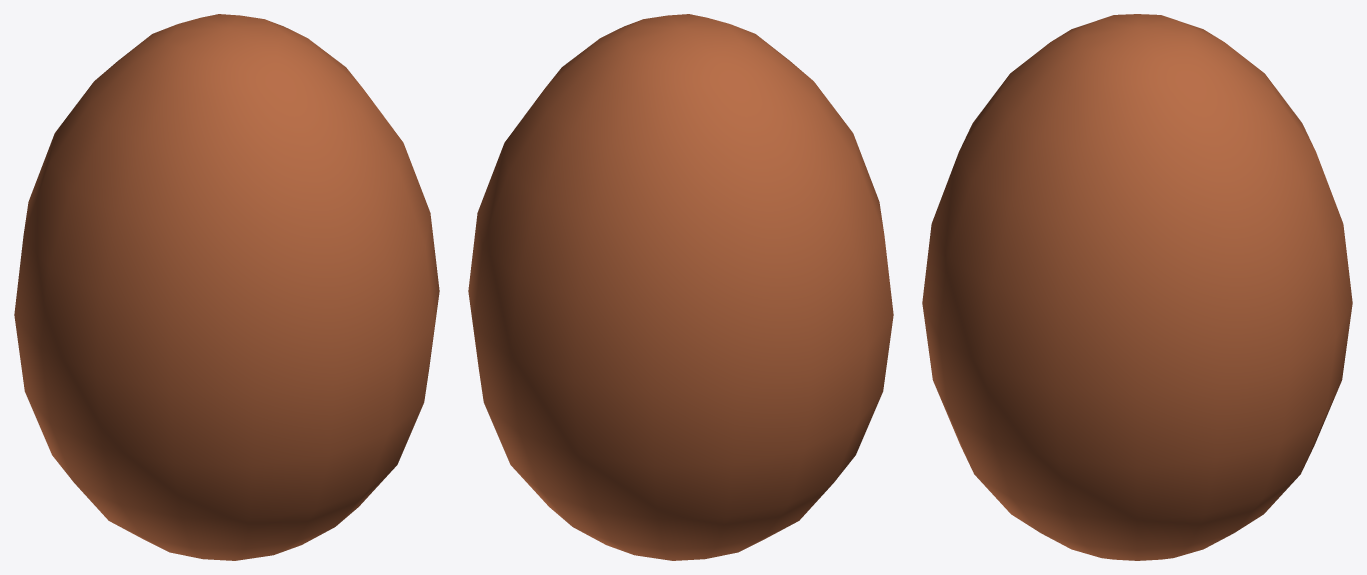
The model's file is Egg.fbx.
The picture shows the model from 3 angles, left to right: view 1: azimuth 30°, elevation 25°; view 2: azimuth 150°, elevation 25°; view 3: azimuth 270°, elevation 25°; orthographic projection.
Visible parts, largest first — view 1: Egg; view 2: Egg; view 3: Egg.
Boxes of the visible parts, box(x1,y1,x2,y2) form: Egg: box(14, 14, 439, 560); Egg: box(468, 14, 893, 560); Egg: box(922, 14, 1352, 560).
Bounding box in the file's own units: 9.81 × 13.01 × 9.81.
